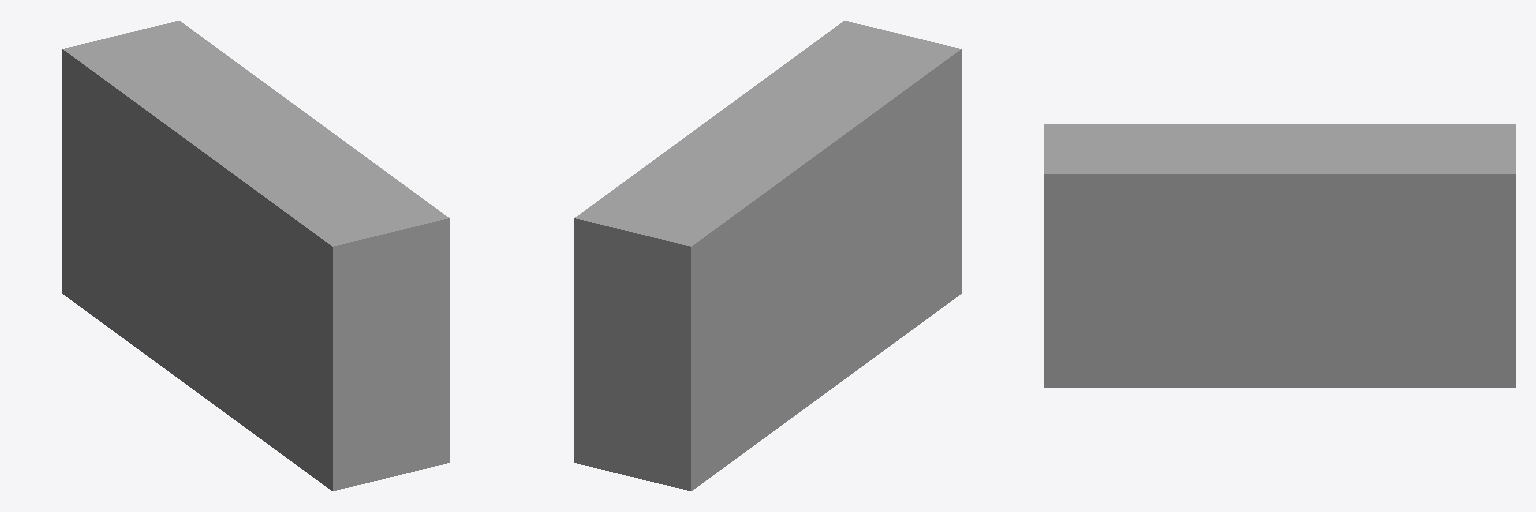
robot.urdf — block_2:
<?xml version="1.0"?>
<robot name="block_2">
  <link name="block_2_base_link">
    <contact>
      <lateral_friction value="1.0"/>
      <spinning_friction value=".001"/>
    </contact>
    <inertial>
      <origin rpy="0 0 0" xyz="0 0 0"/>
      <mass value="0.02"/>
      <inertia ixx="1" ixy="0" ixz="0" iyy="1" iyz="0" izz="1"/>
    </inertial>
    <visual>
      <origin rpy="0 0 0" xyz="0.0 0.0 0.0"/>
      <geometry>
        <box size=".5 2 1"/>
      </geometry>
      <material name="blockmat">
        <color rgba=".7 .7 .7 1"/>
      </material>
    </visual>
    <collision>
      <origin rpy="0 0 0" xyz="0.0 0.0 0.0"/>
      <geometry>
        <box size=".5 2 1"/>
      </geometry>
    </collision>
  </link>
</robot>

--- Render facts (derived) ---
Views: 3 orthographic renders of the robot side by side, from view 1: azimuth 30°, elevation 25°; view 2: azimuth 150°, elevation 25°; view 3: azimuth 270°, elevation 25°.
Model block_2 with 1 links and 0 joints (none), rooted at block_2_base_link, posed all joints at 0.
Links seen in each view (by area): view 1: block_2_base_link; view 2: block_2_base_link; view 3: block_2_base_link.
Link boxes in pixels (bbox=[...]): block_2_base_link: bbox=[62, 21, 449, 490]; block_2_base_link: bbox=[574, 21, 961, 490]; block_2_base_link: bbox=[1044, 124, 1515, 387].
Size in the robot's own frame: 0.5 by 2 by 1 metres.
Geometry: primitives only (box / cylinder / sphere), no mesh files.
